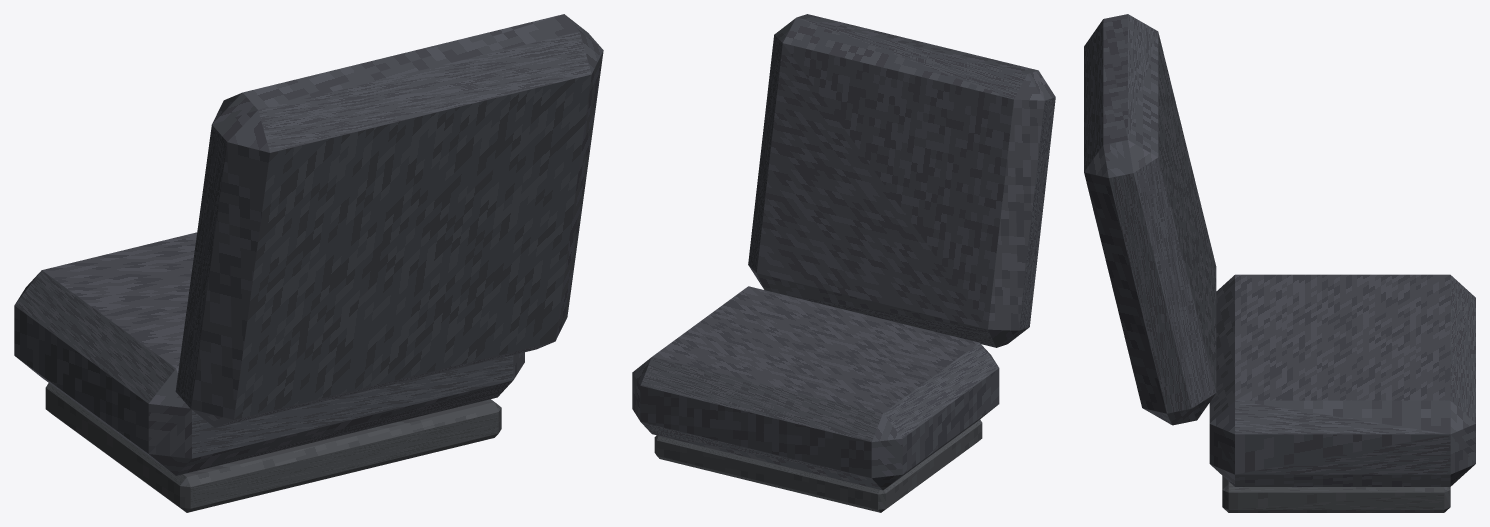
File: vp_seat_back.glb
3 views of the same model, side by side, from view 1: azimuth 30°, elevation 25°; view 2: azimuth 150°, elevation 25°; view 3: azimuth 270°, elevation 25° (orthographic). The views are drawn at different scales.
Parts seen in each view (by area): view 1: block_backrest, block_cushion, block_rails; view 2: block_backrest, block_cushion, block_rails; view 3: block_cushion, block_backrest, block_rails.
Part boxes in pixels (x1,y1,x2,y2): block_backrest: (175, 14, 603, 427); block_cushion: (14, 232, 524, 475); block_rails: (45, 383, 501, 512); block_backrest: (748, 14, 1055, 347); block_cushion: (632, 286, 999, 490); block_rails: (654, 419, 982, 512); block_cushion: (1209, 274, 1475, 486); block_backrest: (1084, 14, 1216, 425); block_rails: (1222, 476, 1450, 512).
Bounding box in the file's own units: 0.55 × 0.6536 × 0.618.
Materials: 2 (2 with a texture image).
